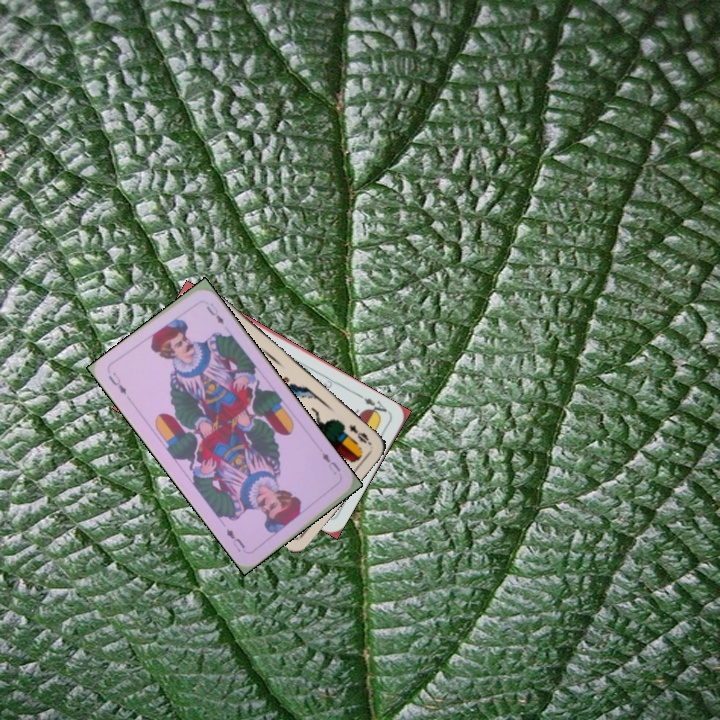EA: (355, 390, 392, 419)
EO: (345, 420, 375, 448)
EU: (318, 448, 343, 478), (104, 368, 129, 398)
